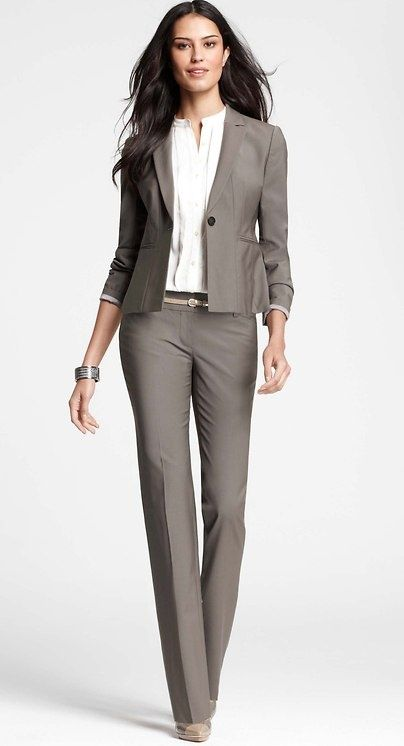feet: (153, 660, 230, 746)
